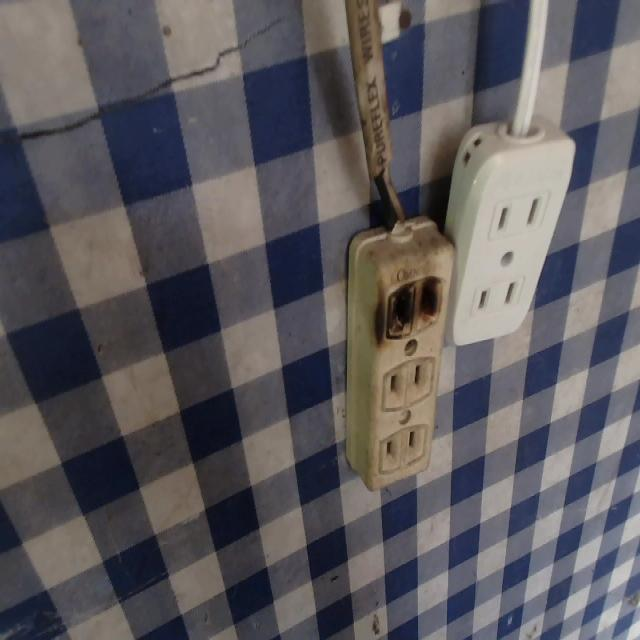-: (378, 268, 447, 344)
